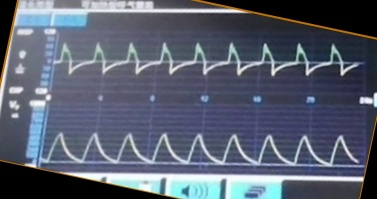Accumulation Flow: (57, 35, 361, 93)
Volume: (47, 115, 359, 172)
